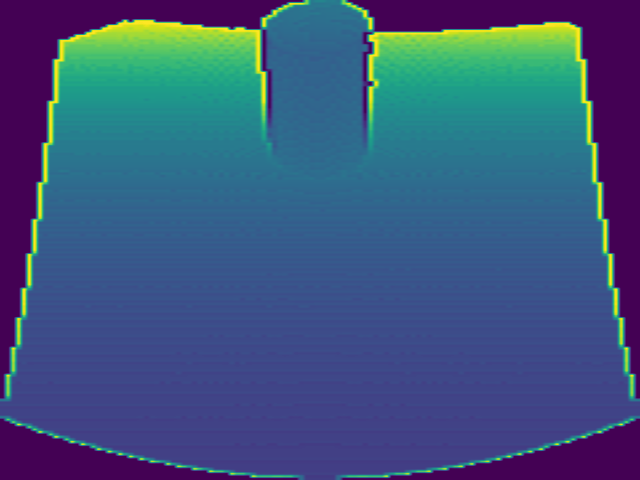cylinder: (255, 2, 376, 179)
